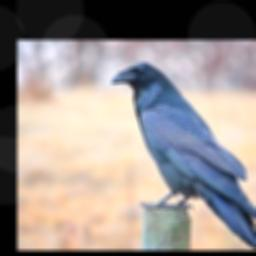Crow: (108, 58, 256, 249)
